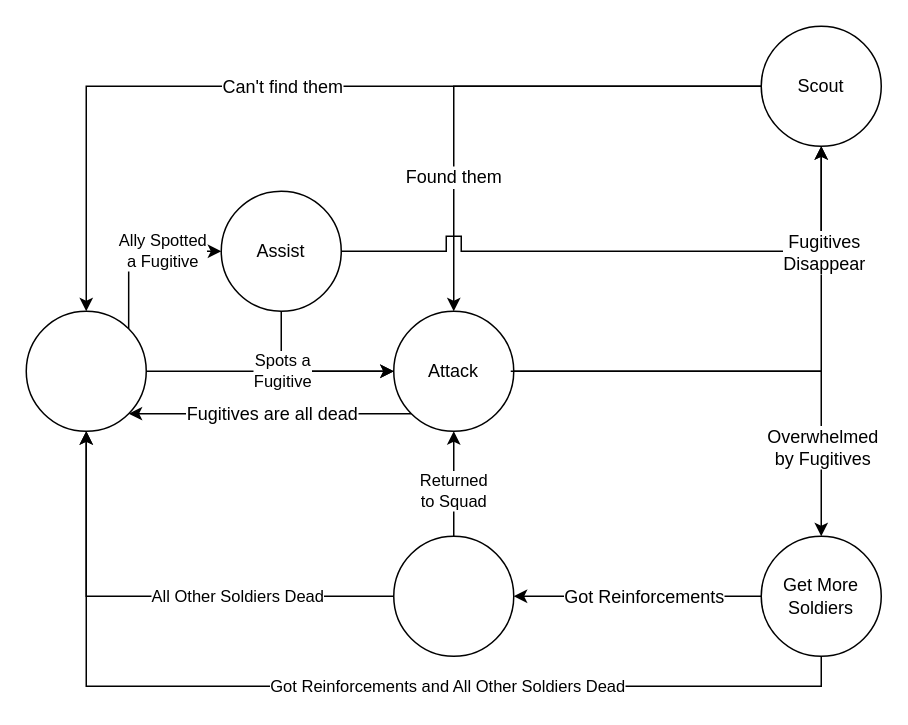
The diagram is 908 pixels wide and 725 high, and some of its shapes have lost their labels. Here are the shapes that lost their labels. From the top down, the box of each, then its label:
(25, 310, 146, 431): Patrol
(392, 535, 514, 656): Return to Squad
